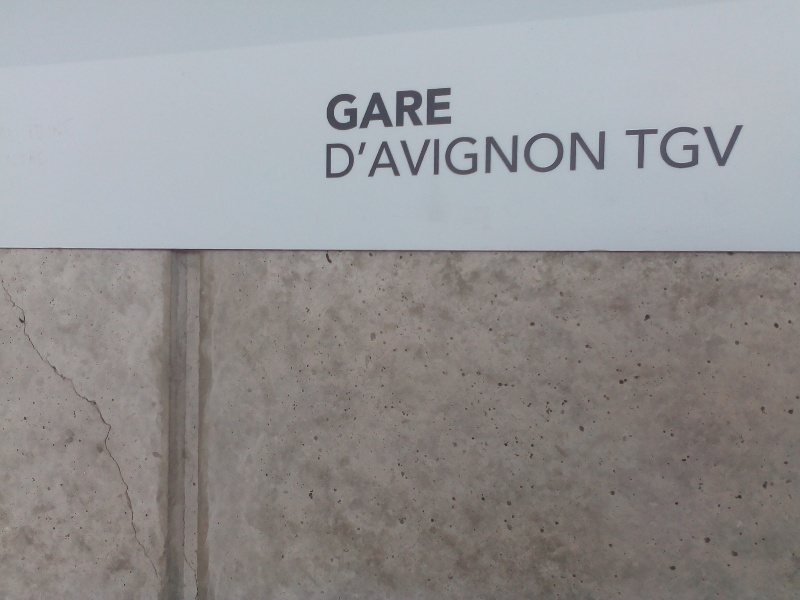text: (337, 129, 352, 179), (353, 129, 368, 179), (369, 129, 384, 179), (385, 129, 400, 179), (401, 129, 416, 179), (417, 129, 432, 179), (433, 129, 448, 179), (449, 129, 464, 179), (465, 129, 480, 179), (481, 129, 496, 179), (497, 129, 512, 179), (513, 129, 528, 179), (529, 129, 544, 179), (545, 129, 560, 179), (561, 129, 576, 179), (577, 129, 592, 179), (625, 123, 640, 172), (641, 123, 656, 172), (657, 123, 672, 172), (673, 123, 688, 172), (689, 123, 704, 172), (705, 123, 720, 172), (721, 123, 736, 172), (593, 129, 607, 179), (337, 87, 352, 131), (353, 87, 368, 131), (369, 87, 384, 131), (385, 87, 400, 131), (401, 87, 416, 131), (417, 87, 432, 131), (433, 87, 448, 131), (326, 129, 336, 179), (325, 87, 336, 131), (737, 123, 744, 172), (449, 87, 453, 131)
